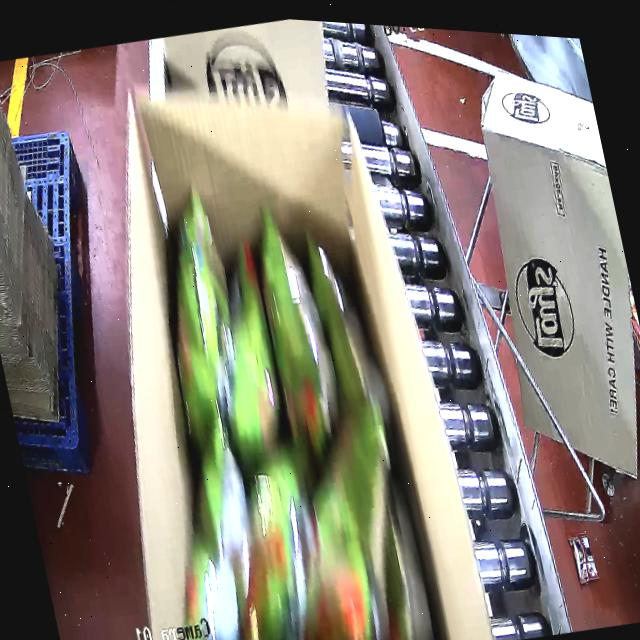YOGURT_HERB: (132, 219, 441, 640)
